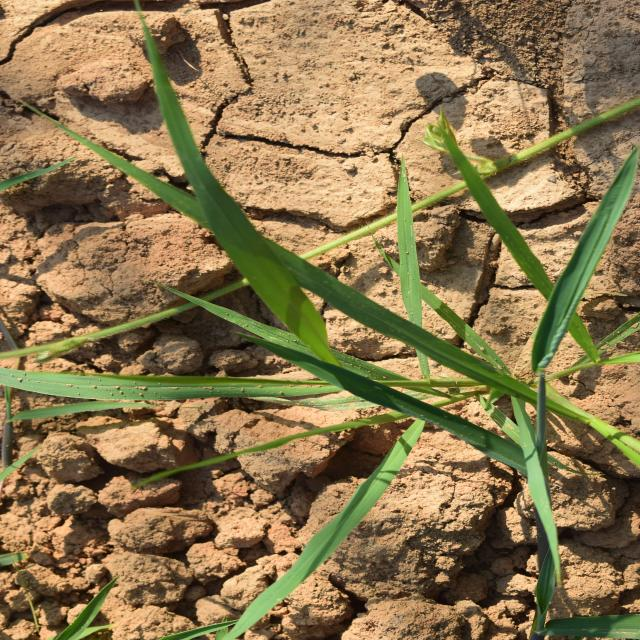green_foxtail: (152, 93, 440, 584)
